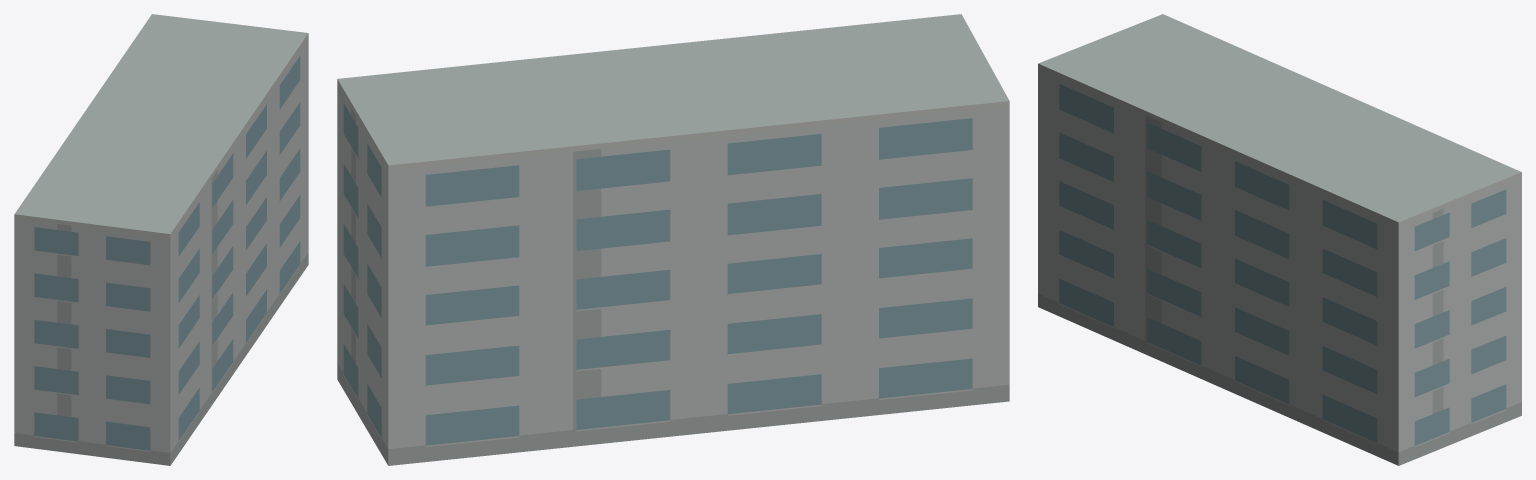
The model's file is survey-upis-32563161.glb.
The picture shows the model from 3 angles, left to right: view 1: azimuth 30°, elevation 25°; view 2: azimuth 150°, elevation 25°; view 3: azimuth 270°, elevation 25°; orthographic projection. The views are drawn at different scales.
Parts seen in each view (by area): view 1: survey-upis-32563161.tmp; view 2: survey-upis-32563161.tmp; view 3: survey-upis-32563161.tmp.
Boxes of the visible parts, x1,y1,x2,y2 form: survey-upis-32563161.tmp: [14, 14, 308, 465]; survey-upis-32563161.tmp: [337, 14, 1009, 465]; survey-upis-32563161.tmp: [1038, 14, 1521, 465].
Size of the model in its own units: 24.96 by 13.6 by 24.49.
